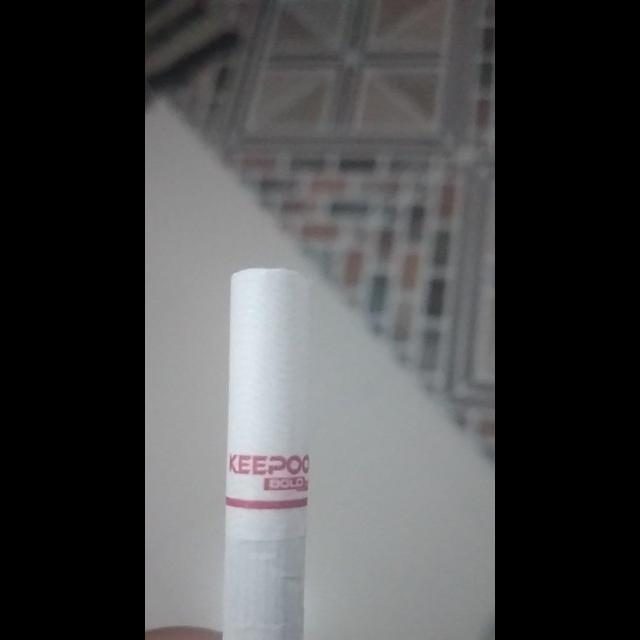rokok: (218, 268, 318, 640)
